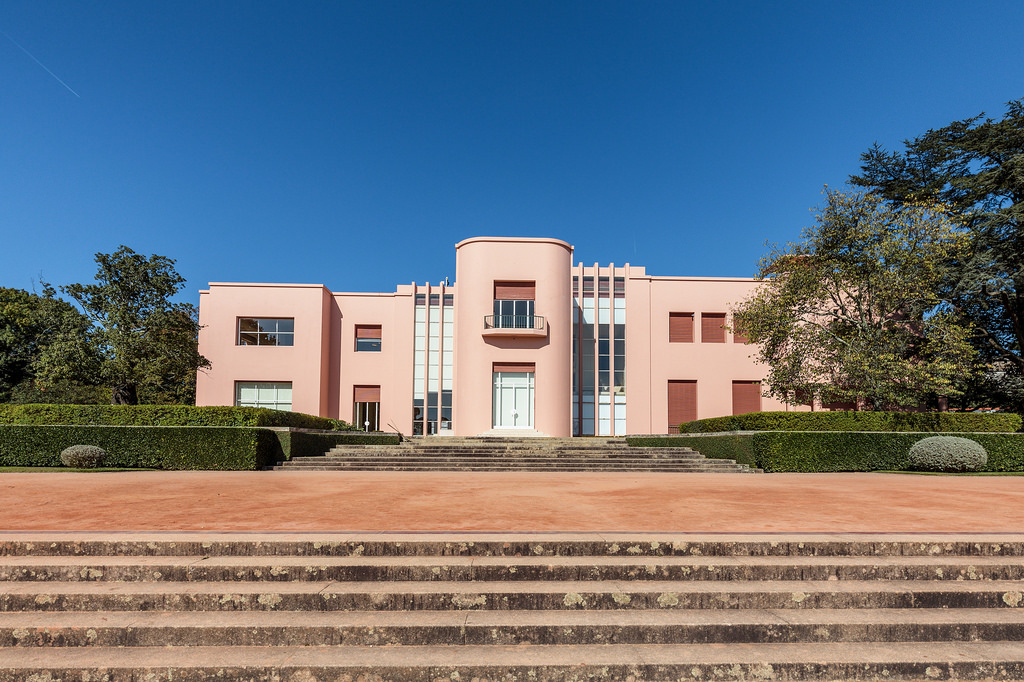serralves: (195, 233, 924, 436)
